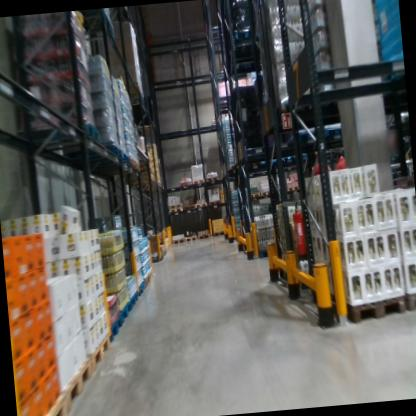pallet: (323, 289, 407, 331), (22, 116, 107, 147), (49, 358, 96, 412), (68, 8, 121, 46), (224, 23, 264, 68), (84, 332, 115, 375), (95, 149, 134, 173), (34, 393, 72, 416), (106, 309, 127, 345), (237, 156, 267, 174), (106, 163, 142, 178), (123, 92, 149, 109), (103, 142, 126, 160), (121, 299, 135, 327), (402, 290, 416, 313), (224, 162, 247, 176), (138, 181, 166, 191), (280, 150, 296, 167), (130, 80, 144, 98), (285, 183, 307, 194), (129, 289, 140, 310), (137, 279, 148, 299), (130, 153, 141, 172), (169, 235, 186, 246), (259, 187, 276, 197), (248, 191, 260, 205), (205, 174, 220, 185), (184, 233, 199, 244), (182, 202, 195, 213), (208, 196, 222, 206), (197, 232, 211, 241), (144, 271, 151, 288), (167, 207, 183, 214), (194, 201, 208, 209), (193, 177, 205, 186), (179, 181, 193, 188), (212, 230, 228, 236), (167, 203, 181, 209), (148, 268, 154, 281)
